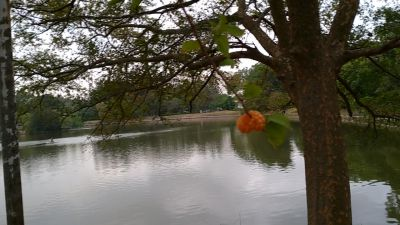eggs: (236, 109, 267, 137)
